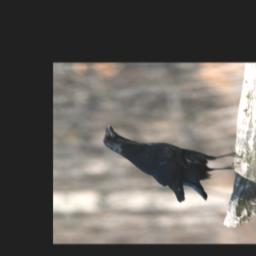Crow: (99, 122, 249, 205)
